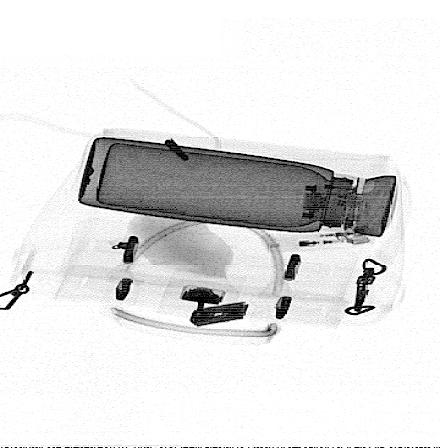Lighter: (264, 225, 374, 255)
